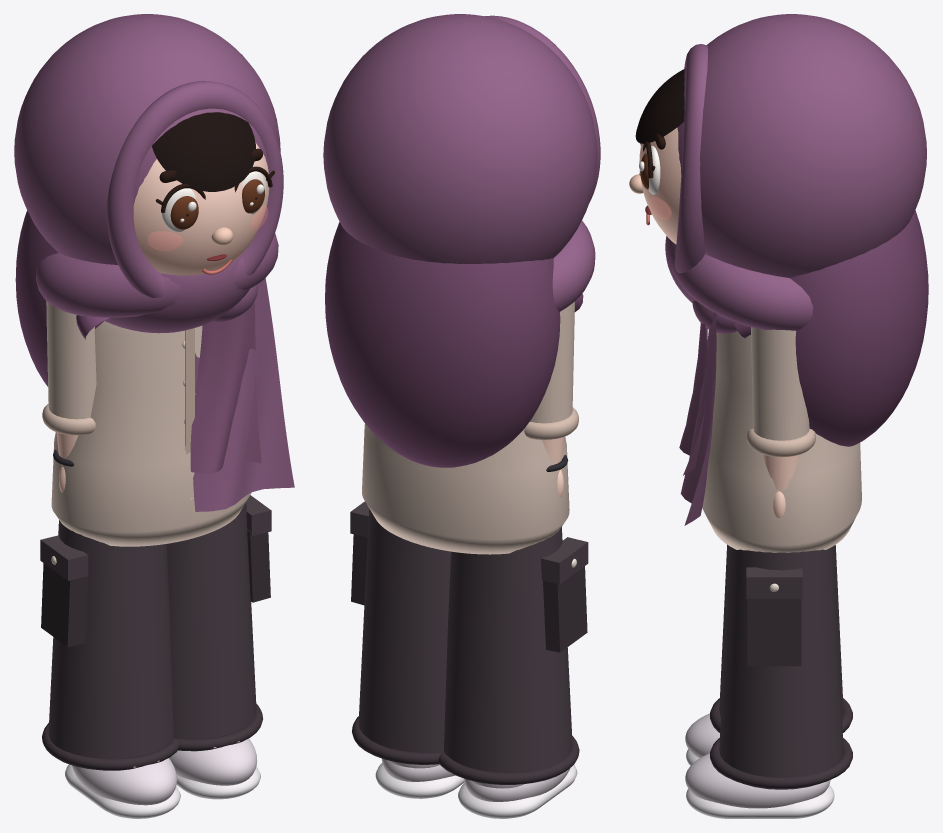
Rendered from Maha.glb.
3 views of the same model, side by side, from view 1: azimuth 30°, elevation 25°; view 2: azimuth 150°, elevation 25°; view 3: azimuth 270°, elevation 25° (orthographic). The views are drawn at different scales.
Parts seen in each view (by area): view 1: Head, Body, LegL, LegR, ArmL, EyeL, EyeR; view 2: Head, LegL, LegR, Body, ArmL; view 3: Head, LegR, Body, ArmR, LegL, EyeR.
Boxes of the visible parts, bbox=[...] form: Head: bbox=[14, 14, 283, 386]; Body: bbox=[36, 233, 294, 546]; LegL: bbox=[40, 520, 180, 818]; LegR: bbox=[166, 495, 271, 799]; ArmL: bbox=[42, 301, 96, 492]; EyeL: bbox=[155, 183, 205, 231]; EyeR: bbox=[234, 166, 274, 214]; Head: bbox=[323, 14, 600, 467]; LegL: bbox=[438, 527, 588, 818]; LegR: bbox=[350, 501, 464, 798]; Body: bbox=[362, 220, 595, 554]; ArmL: bbox=[524, 301, 578, 496]; Head: bbox=[629, 14, 928, 446]; LegR: bbox=[685, 546, 852, 818]; Body: bbox=[669, 249, 861, 552]; ArmR: bbox=[746, 327, 815, 518]; LegL: bbox=[685, 544, 852, 765]; EyeR: bbox=[639, 141, 660, 194].
Size of the model in its own units: 0.5764 by 1.79 by 0.6375.
